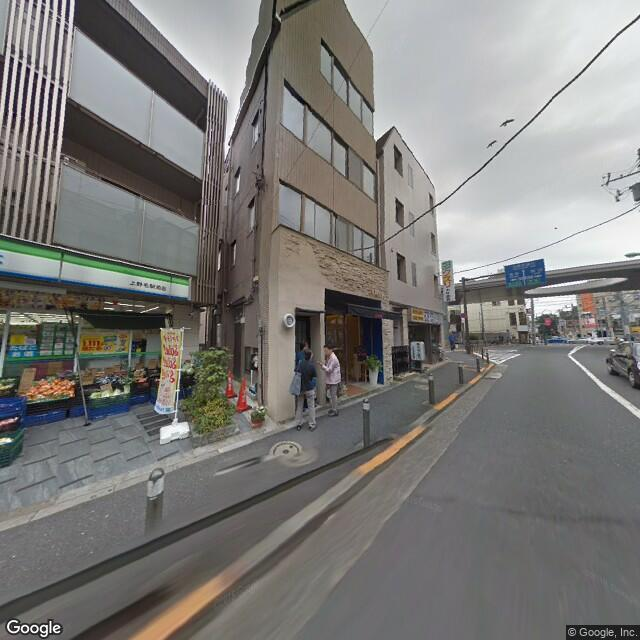family_mart: (1, 239, 190, 302)
